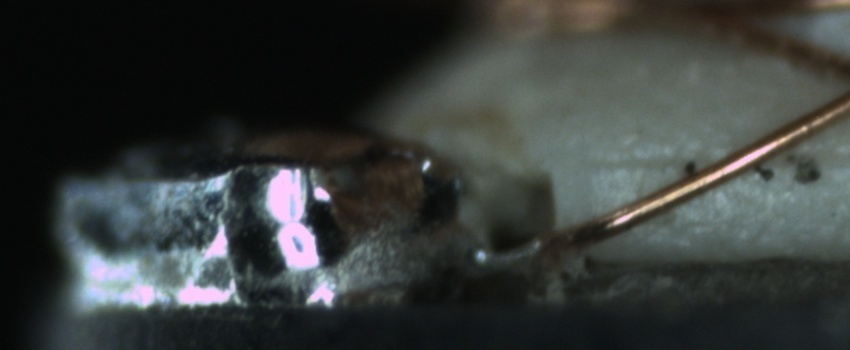DL: (580, 126, 838, 191)
